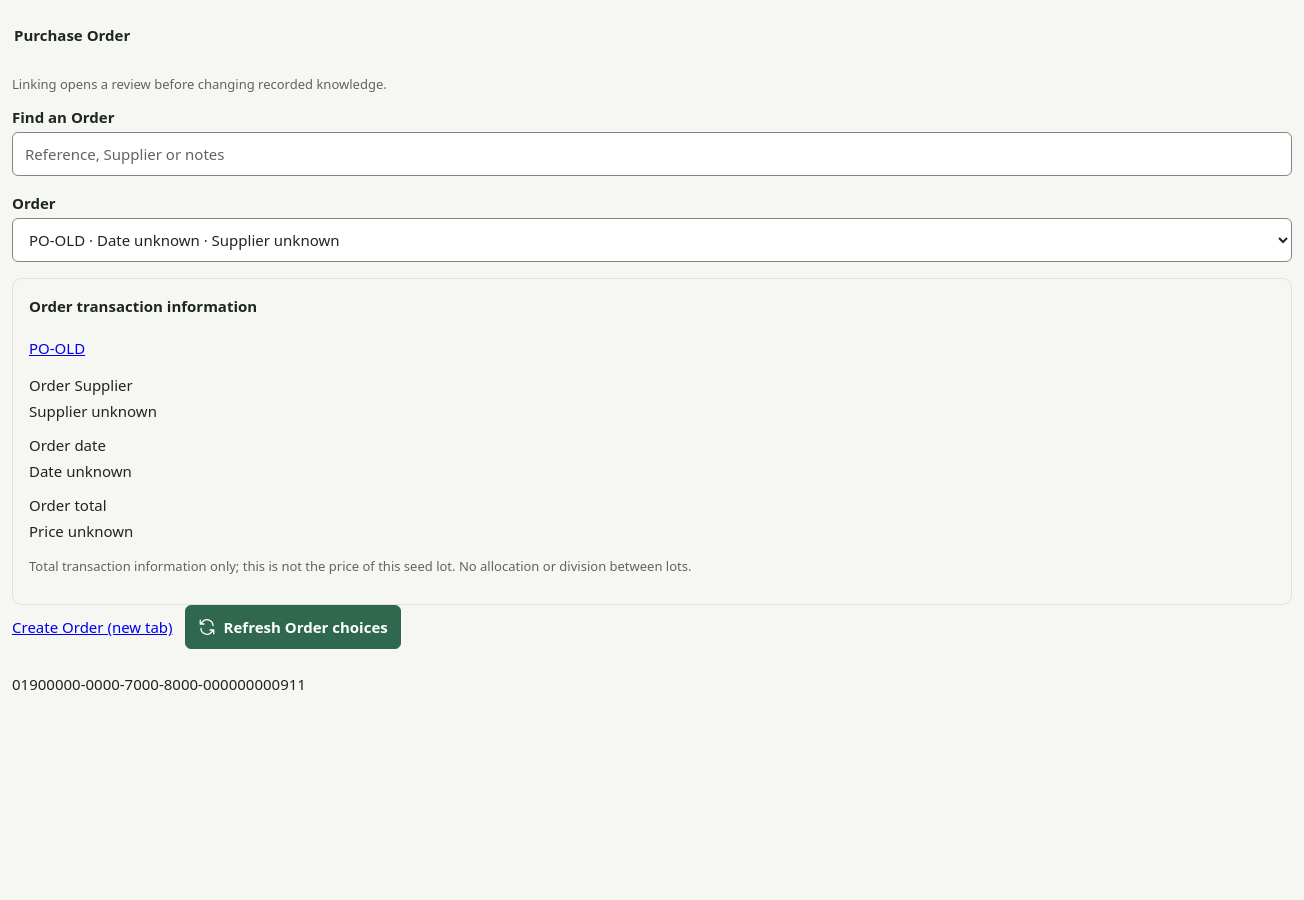
Test case: existing Order outside the page stays selectable through search, unlink and relink
Type "missing" into the search field labelled "Find an Order" at [652, 154], box [12,132,1292,176]
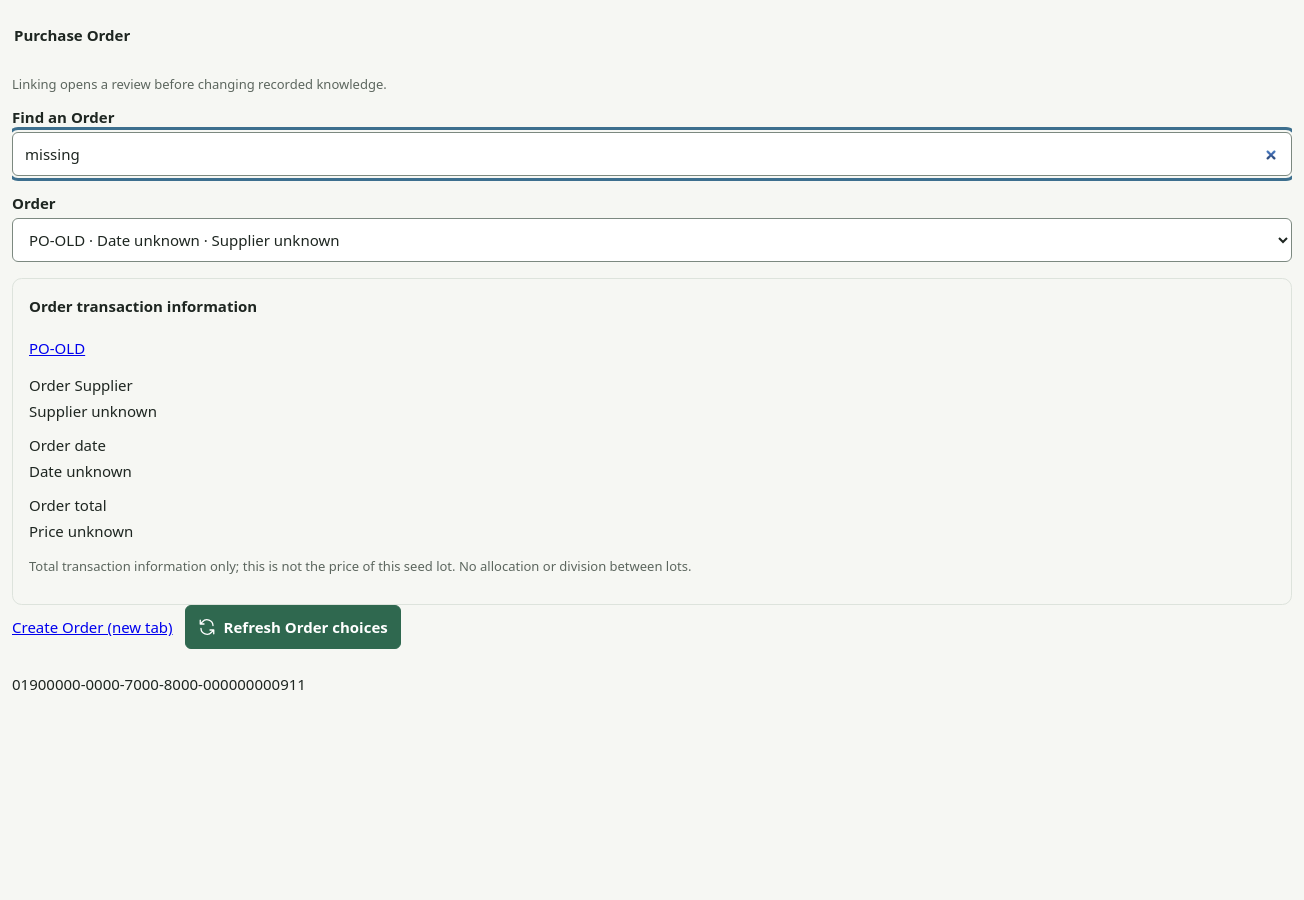
Select "No Order" in the dropdown labelled "Order" at [652, 240], box [12,218,1292,262]
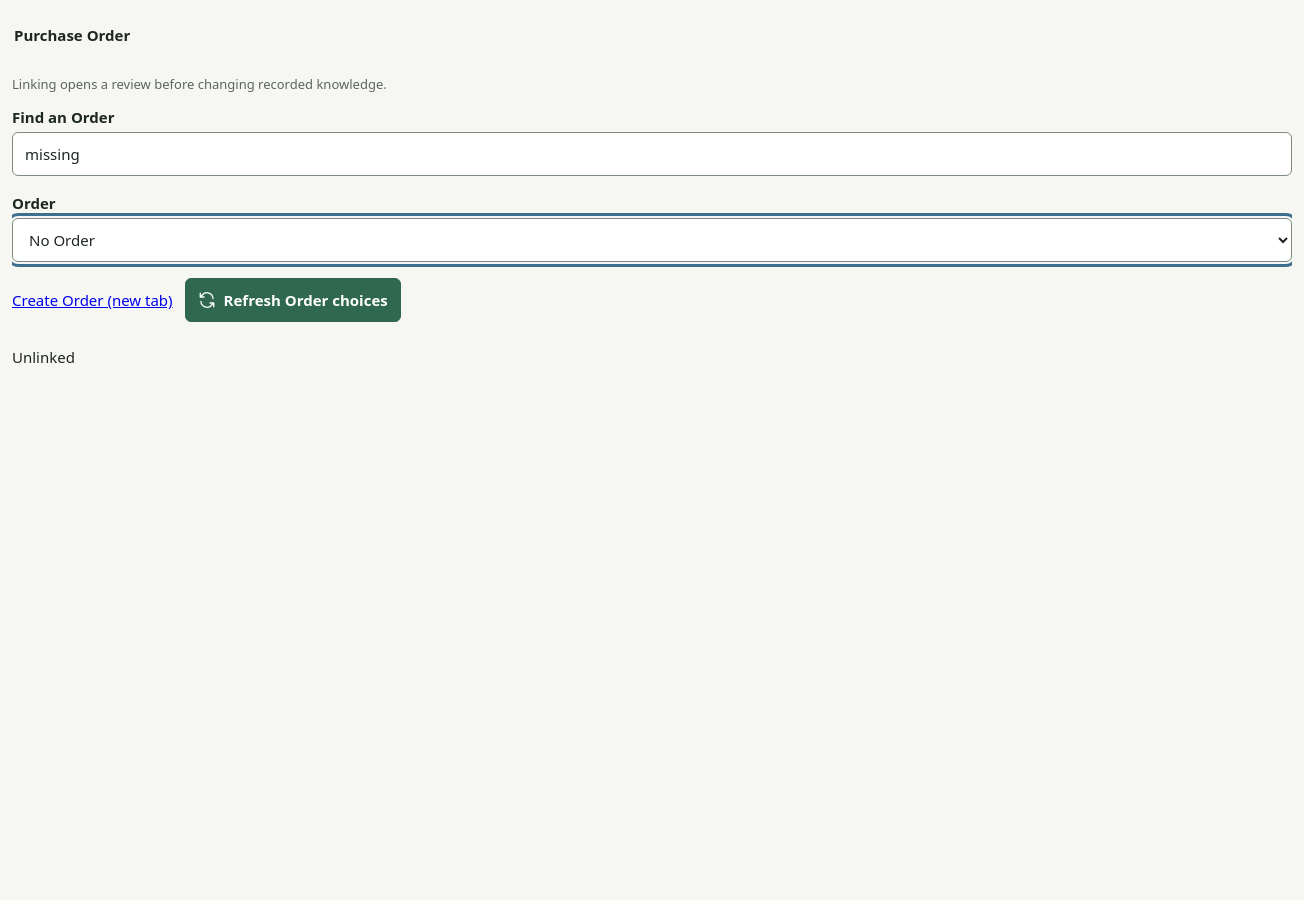
Now the text "Unlinked" is shown, box [12,347,75,367]
Clear the search field labelled "Find an Order" at [652, 154], box [12,132,1292,176]
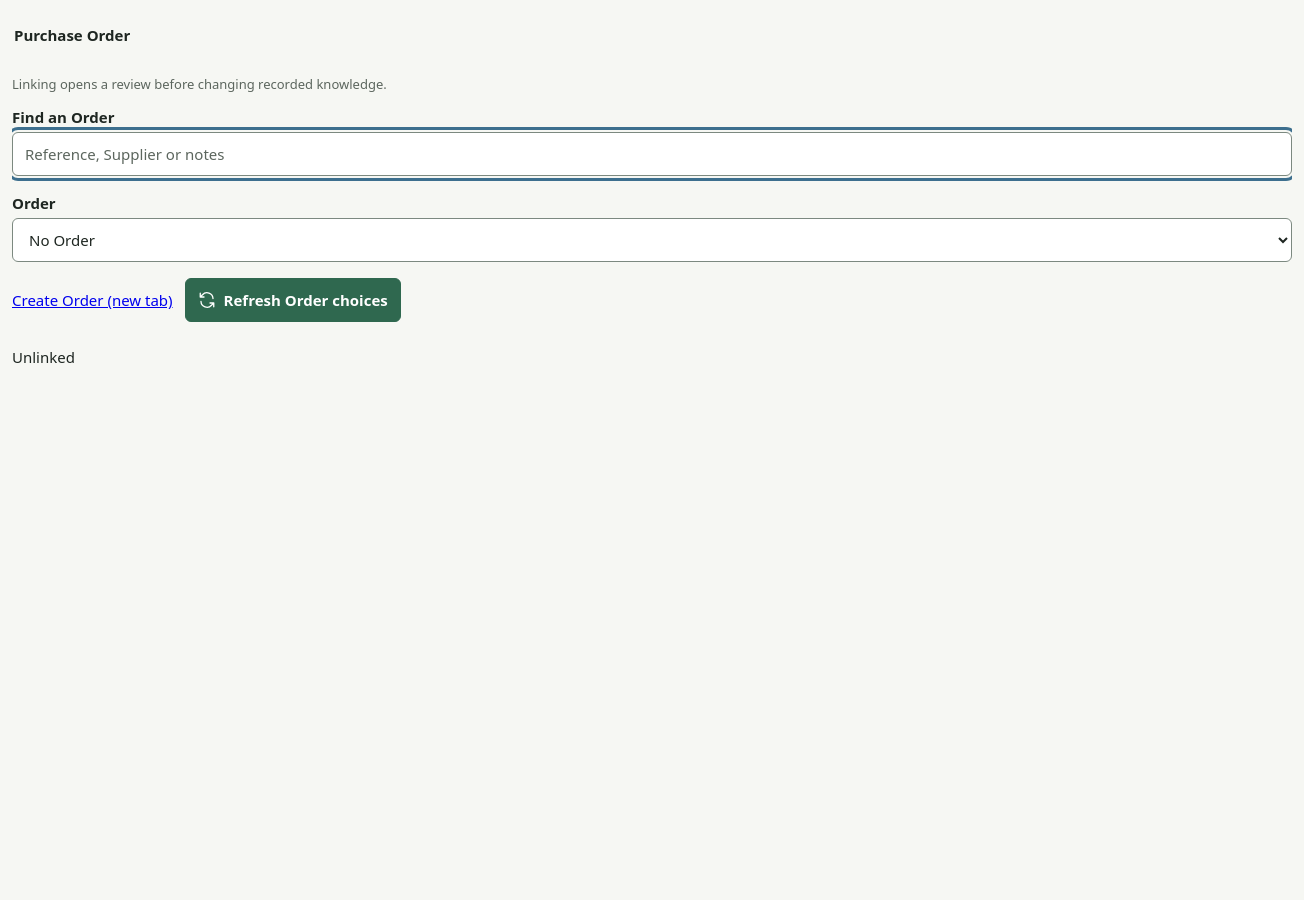
Select "PO-OLD · Date unknown · Supplier unknown" in the dropdown labelled "Order" at [652, 240], box [12,218,1292,262]
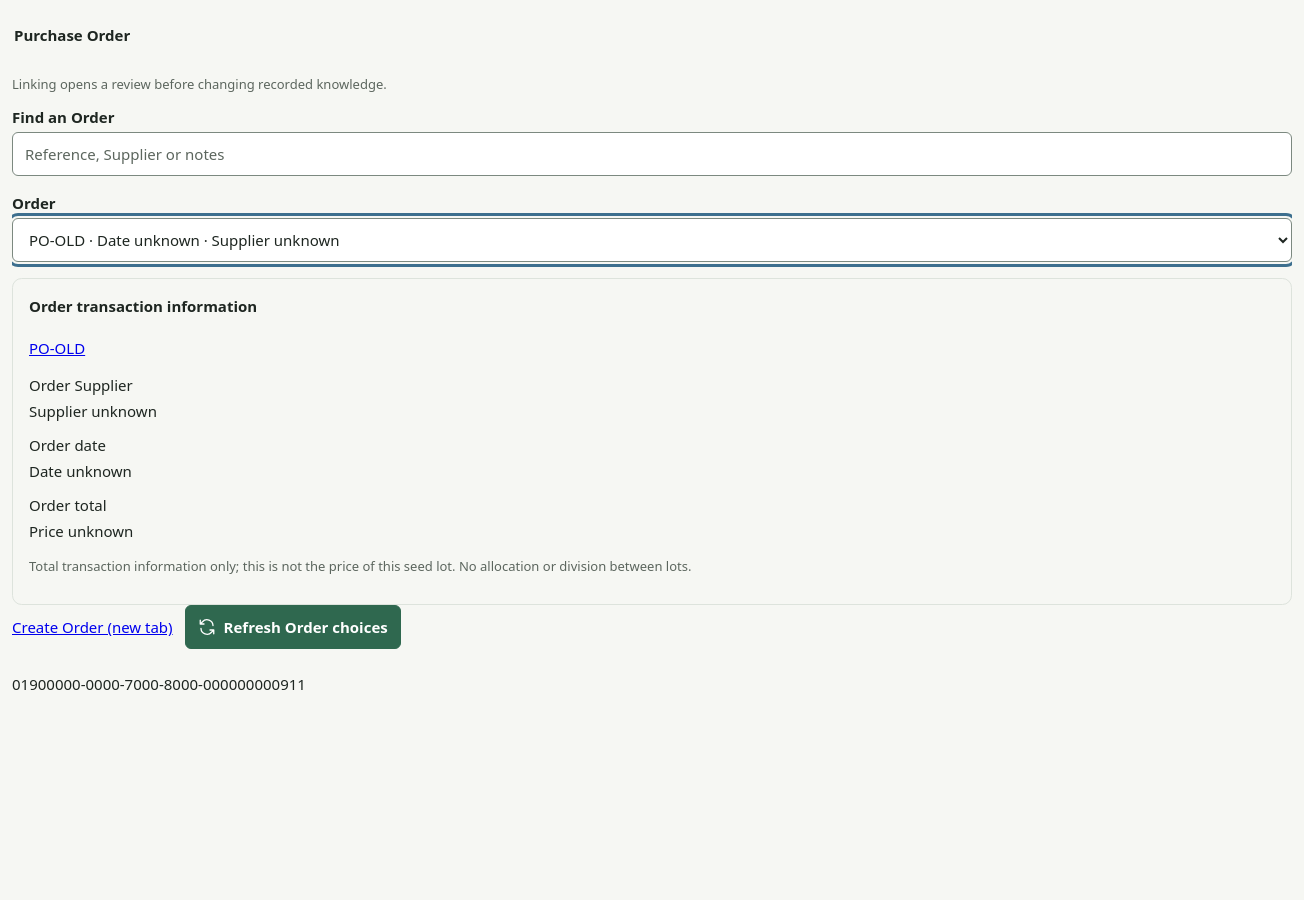
Now the text "01900000-0000-7000-8000-000000000911" is shown, box [12,674,306,694]
